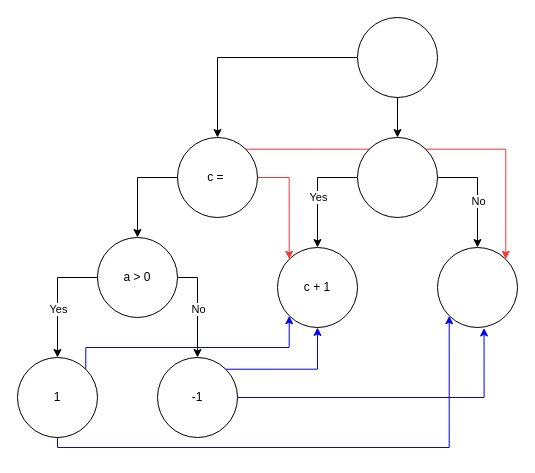
Some shapes in this 535 by 473 pixel diagram are drawn without their labels. The shapes that lost their labels are listed below. From the top down, each one's centre as x and y in pixels, then its label:
point (397, 57): f a b
point (397, 177): if b > 0
point (477, 287): c - 1
